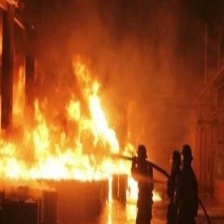fire: (3, 51, 163, 203)
smoke: (113, 17, 201, 130), (37, 7, 128, 81)
